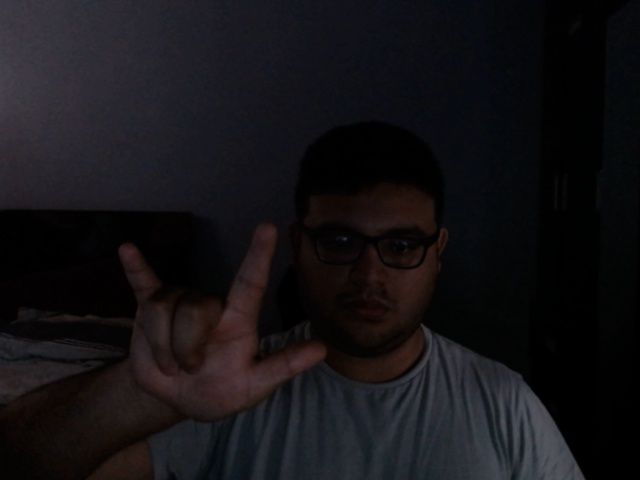I love you: (108, 222, 330, 427)
